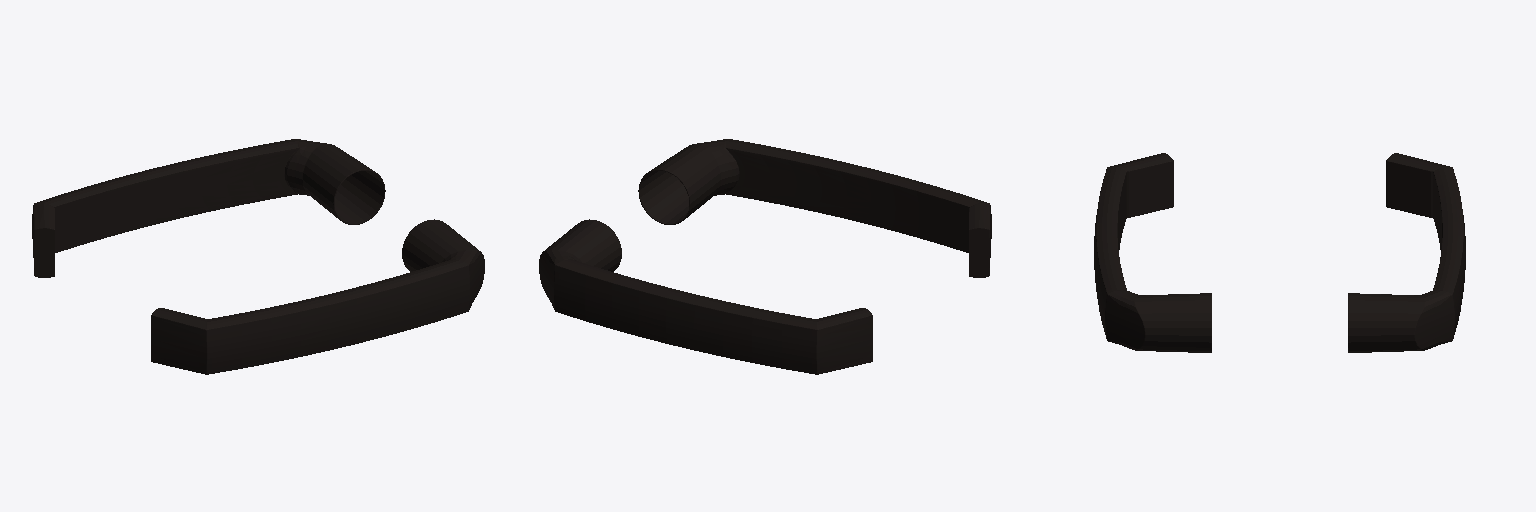
File: 055_knob_centered.obj
3 renders of one model, left to right at view 1: azimuth 30°, elevation 25°; view 2: azimuth 150°, elevation 25°; view 3: azimuth 270°, elevation 25°, orthographic.
Bounding box in the file's own units: 16.38 × 2.61 × 16.11.